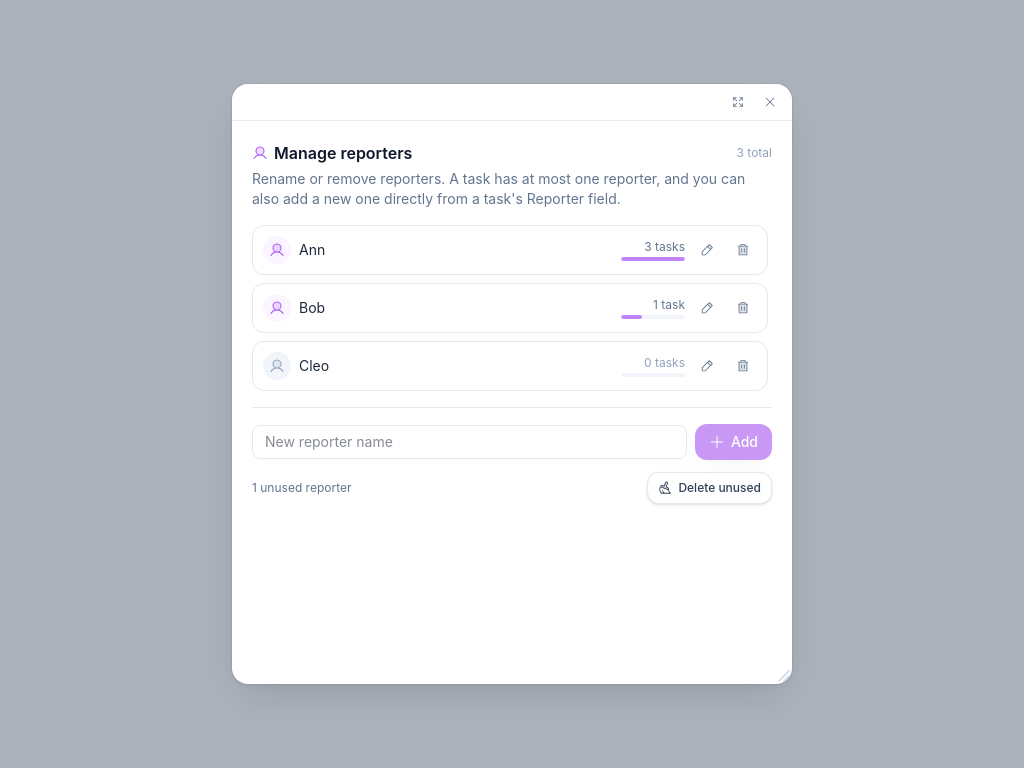
ReporterManager › blocks a duplicate name, ignoring case and spaces
In the field labelled "New reporter name": (469, 442) x1=252 y1=425 x2=687 y2=459, type " ann "
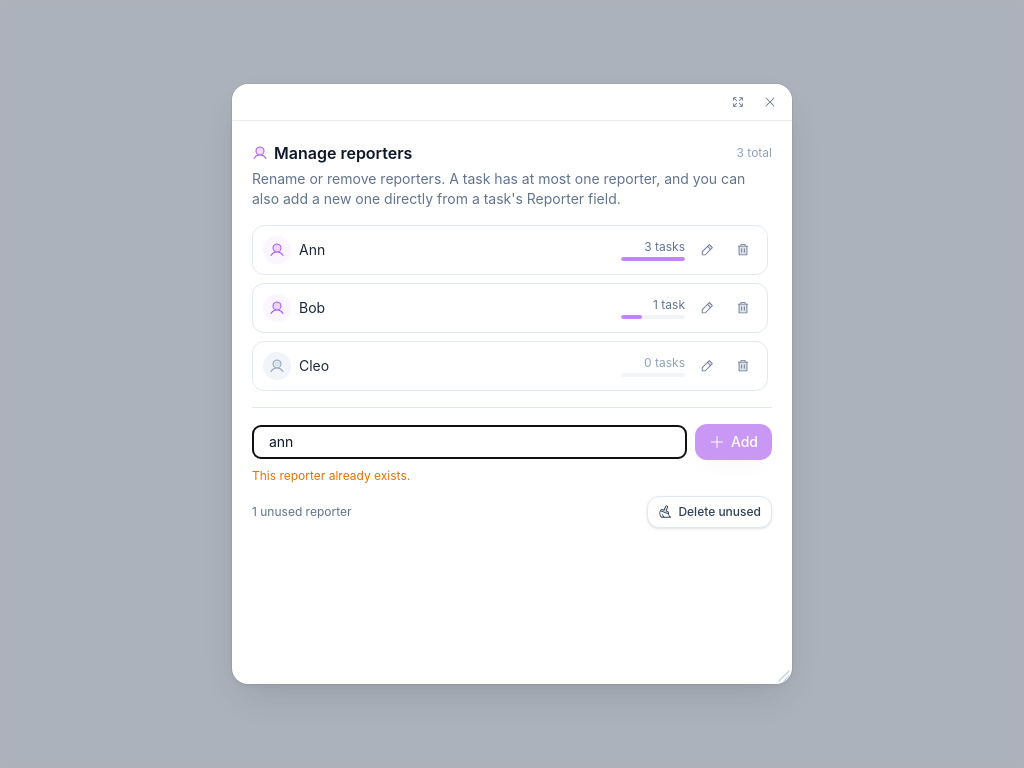
Expected: the button "Add" is disabled, x1=695 y1=424 x2=772 y2=460
Result: the text "This reporter already exists." is shown at x1=252 y1=468 x2=410 y2=483
